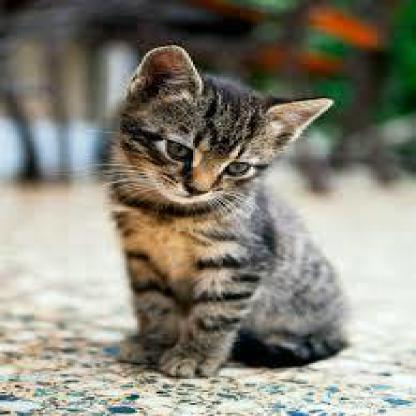cat: (105, 37, 347, 382)
